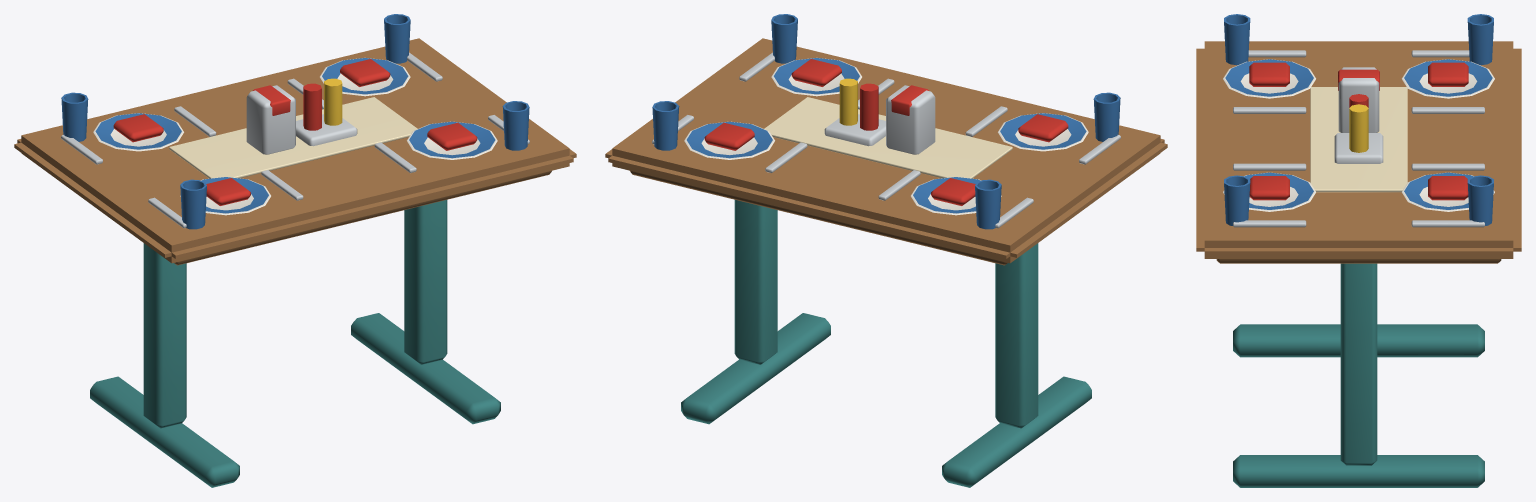
File: SM_Table_Set_Four_01.glb
3 renders of one model, left to right at view 1: azimuth 30°, elevation 25°; view 2: azimuth 150°, elevation 25°; view 3: azimuth 270°, elevation 25°, orthographic. The views are drawn at different scales.
Parts seen in each view (by area): view 1: SM_Table_Set_Four_01; view 2: SM_Table_Set_Four_01; view 3: SM_Table_Set_Four_01.
Boxes of the visible parts, x1,y1,x2,y2 form: SM_Table_Set_Four_01: [14, 14, 576, 487]; SM_Table_Set_Four_01: [605, 14, 1167, 487]; SM_Table_Set_Four_01: [1196, 14, 1521, 487].
Bounding box in the file's own units: 1.2 × 0.9 × 0.8.
1 material, 1 textured.
